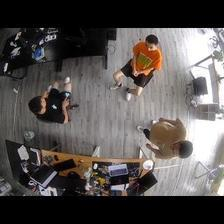normal: (109, 32, 164, 100), (135, 115, 193, 162), (28, 76, 78, 128)
